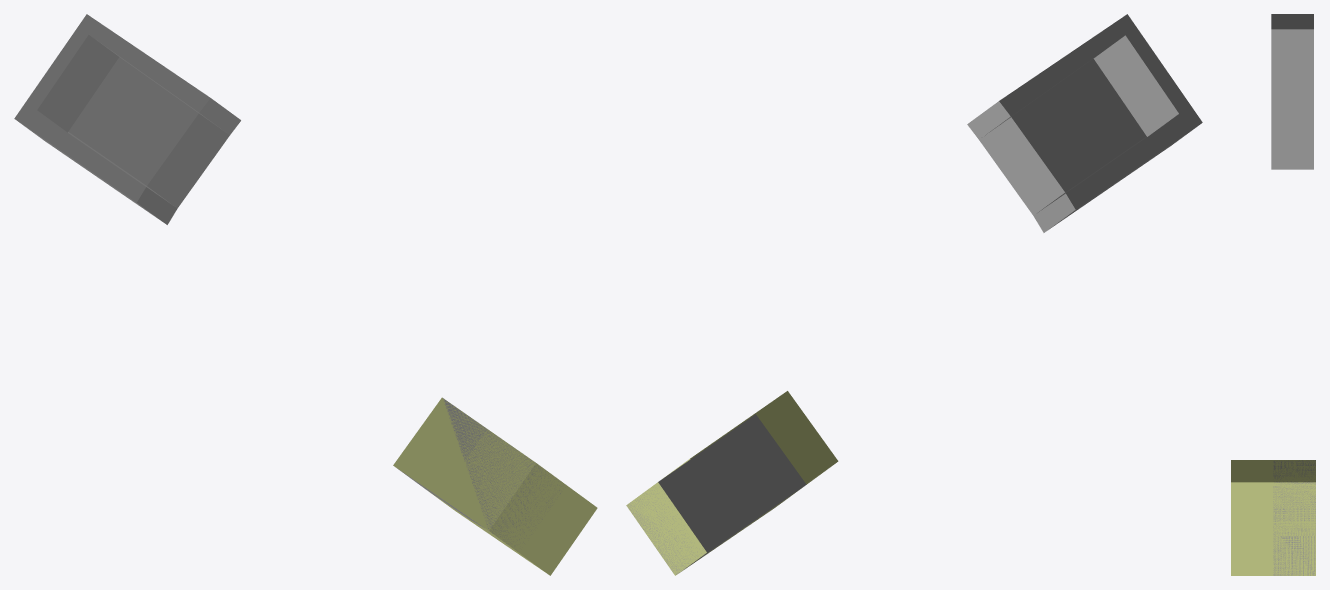
3 renders of one model, left to right at view 1: azimuth 30°, elevation 25°; view 2: azimuth 150°, elevation 25°; view 3: azimuth 270°, elevation 25°, orthographic. The views are drawn at different scales.
Parts seen in each view (by area): view 1: 0_1_2_0_3_0_2_2; view 2: 0_1_2_0_3_0_2_2; view 3: 0_1_2_0_3_0_2_2.
Boxes of the visible parts, bbox=[...] form: 0_1_2_0_3_0_2_2: bbox=[14, 14, 597, 575]; 0_1_2_0_3_0_2_2: bbox=[626, 14, 1202, 575]; 0_1_2_0_3_0_2_2: bbox=[1231, 14, 1315, 575].
Size of the model in its own units: 29.5 by 33.2 by 6.
